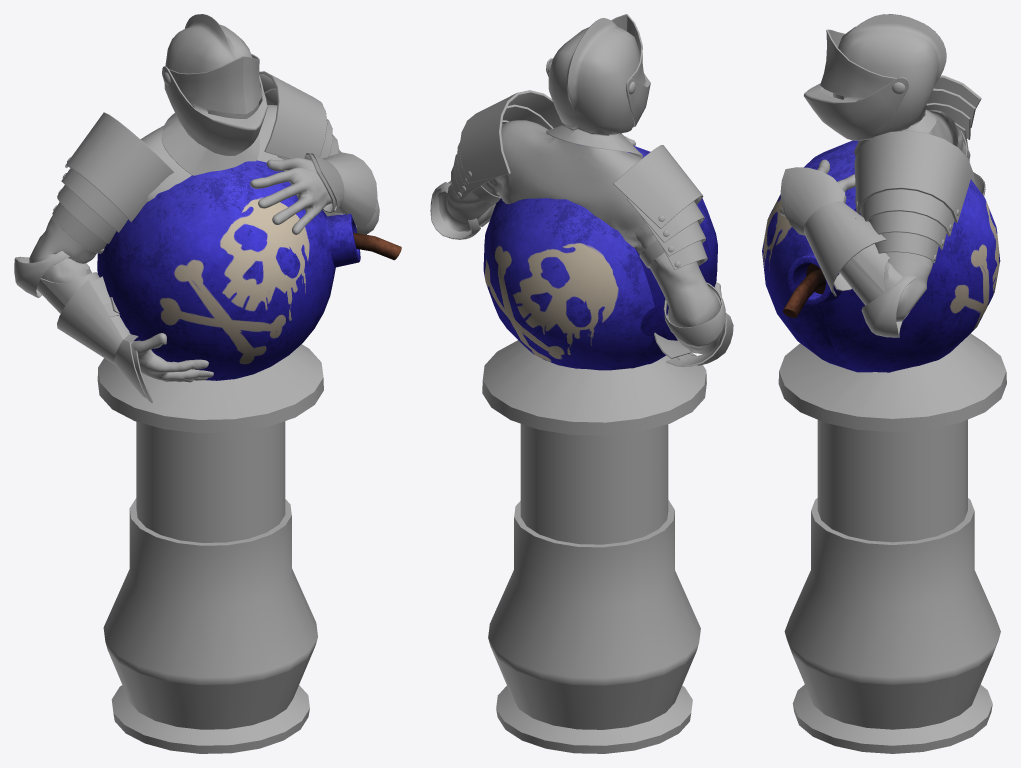
The model's file is SoldadoBomba.fbx.
The picture shows the model from 3 angles, left to right: view 1: azimuth 30°, elevation 25°; view 2: azimuth 150°, elevation 25°; view 3: azimuth 270°, elevation 25°; orthographic projection.
Visible parts, largest first — view 1: SM_Base_Simples1, SM_Bomba, armadura_geoUV3, corpo_geoUV3; view 2: SM_Base_Simples1, SM_Bomba, corpo_geoUV3, armadura_geoUV3; view 3: SM_Base_Simples1, armadura_geoUV3, SM_Bomba, corpo_geoUV3.
Boxes of the visible parts, x1=… form: SM_Base_Simples1: x1=97, y1=344, x2=323, y2=753; SM_Bomba: x1=97, y1=160, x2=401, y2=380; armadura_geoUV3: x1=14, y1=53, x2=379, y2=402; corpo_geoUV3: x1=29, y1=14, x2=331, y2=382; SM_Base_Simples1: x1=482, y1=340, x2=706, y2=753; SM_Bomba: x1=483, y1=145, x2=717, y2=370; corpo_geoUV3: x1=437, y1=18, x2=725, y2=353; armadura_geoUV3: x1=430, y1=14, x2=733, y2=366; SM_Base_Simples1: x1=778, y1=333, x2=1006, y2=753; armadura_geoUV3: x1=780, y1=29, x2=985, y2=337; SM_Bomba: x1=762, y1=140, x2=1000, y2=372; corpo_geoUV3: x1=779, y1=14, x2=975, y2=321.
Bounding box in the file's own units: 11.25 × 23.24 × 7.34.
